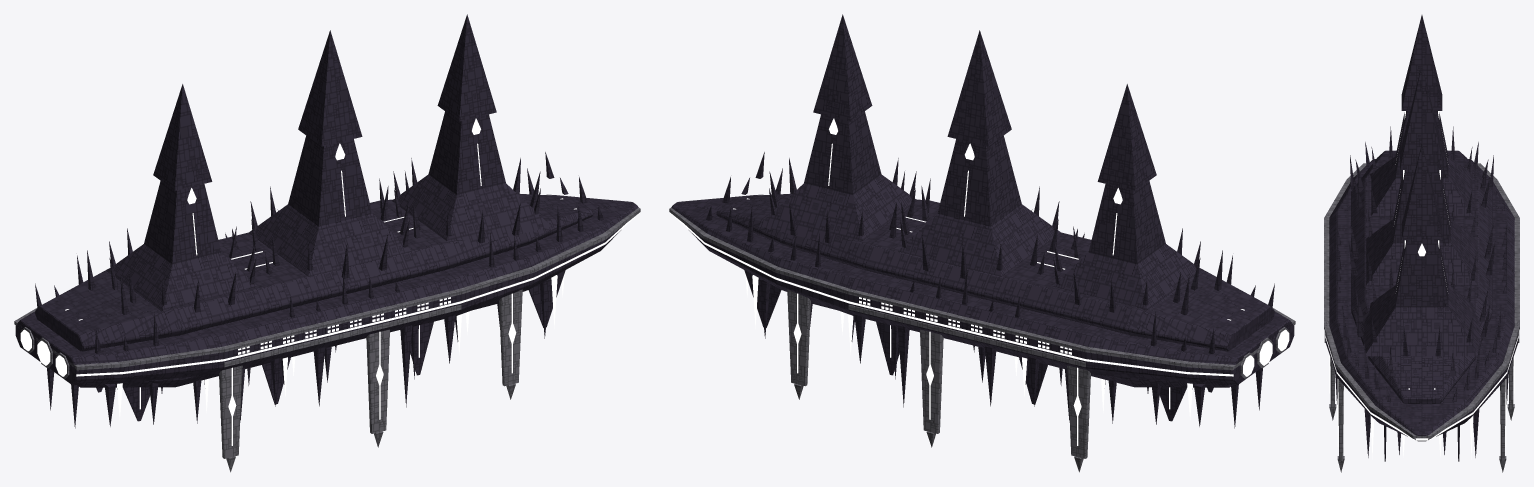
Rendered from dark_lod0.glb.
3 views of the same model, side by side, from view 1: azimuth 30°, elevation 25°; view 2: azimuth 150°, elevation 25°; view 3: azimuth 270°, elevation 25° (orthographic). The views are drawn at different scales.
Parts seen in each view (by area): view 1: dark_lod0_body, dark_lod0_glow; view 2: dark_lod0_body, dark_lod0_glow; view 3: dark_lod0_body, dark_lod0_glow.
Part boxes in pixels (x1,y1,x2,y2): dark_lod0_body: [14, 14, 640, 472]; dark_lod0_glow: [15, 118, 639, 445]; dark_lod0_body: [669, 14, 1295, 472]; dark_lod0_glow: [670, 118, 1294, 445]; dark_lod0_body: [1324, 15, 1519, 472]; dark_lod0_glow: [1325, 111, 1518, 459].
Size of the model in its own units: 22.51 by 13.9 by 6.92.
2 materials, 1 textured.
